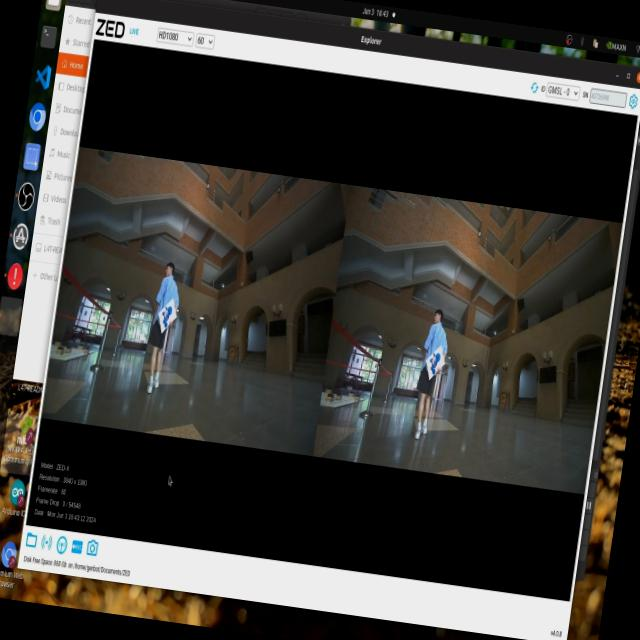blue: (424, 348, 446, 382), (159, 302, 174, 340)
